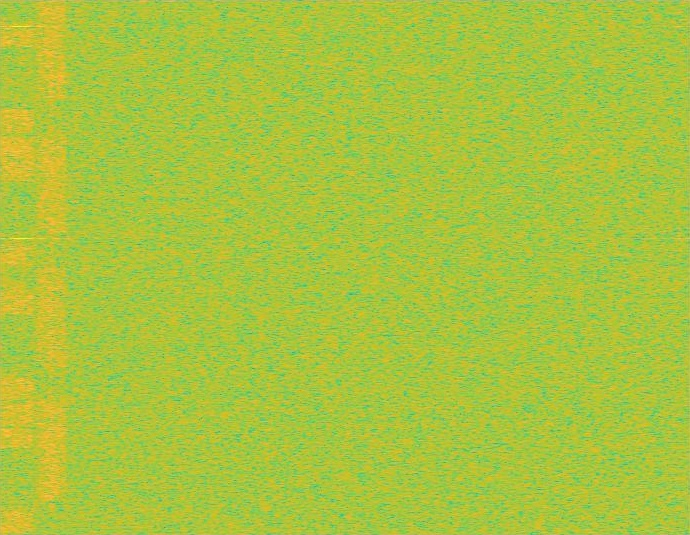5G: (35, 0, 69, 534)
DSSS: (49, 0, 54, 534)
LTE: (0, 0, 35, 534)
Radar: (15, 0, 29, 534)
